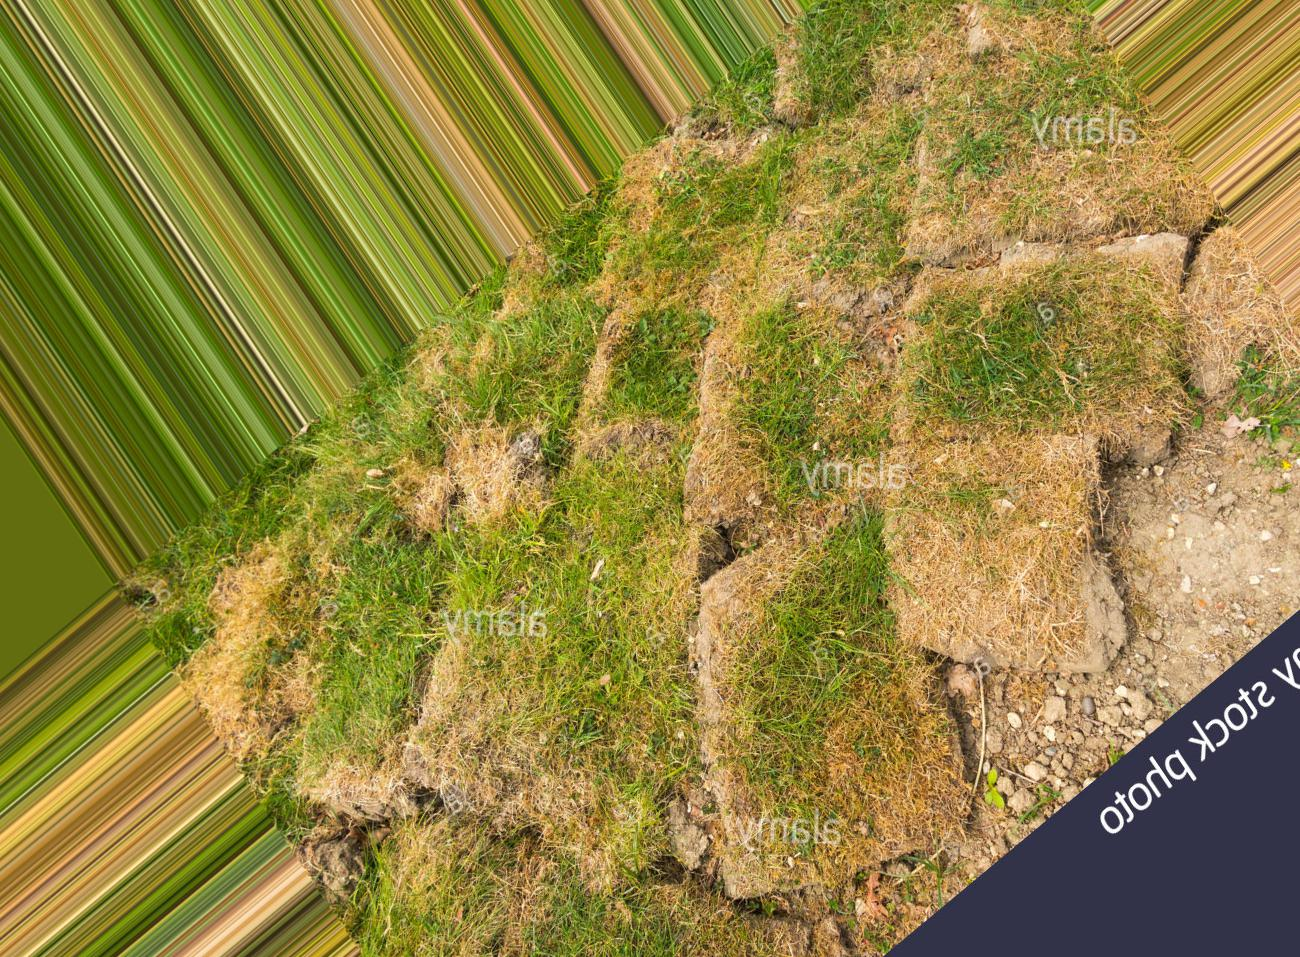patch: (914, 467, 1121, 638), (949, 210, 1198, 285), (1126, 502, 1250, 624), (990, 675, 1125, 754), (406, 702, 518, 784), (458, 439, 555, 522), (597, 410, 721, 461), (694, 843, 803, 890), (646, 138, 770, 176), (223, 615, 267, 675)
